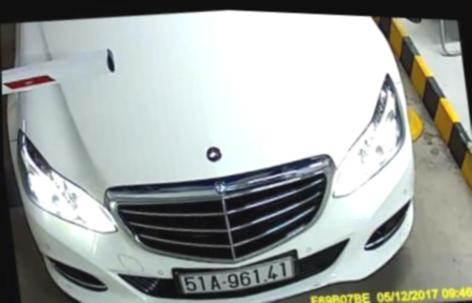License_Plate: (173, 248, 304, 303)
